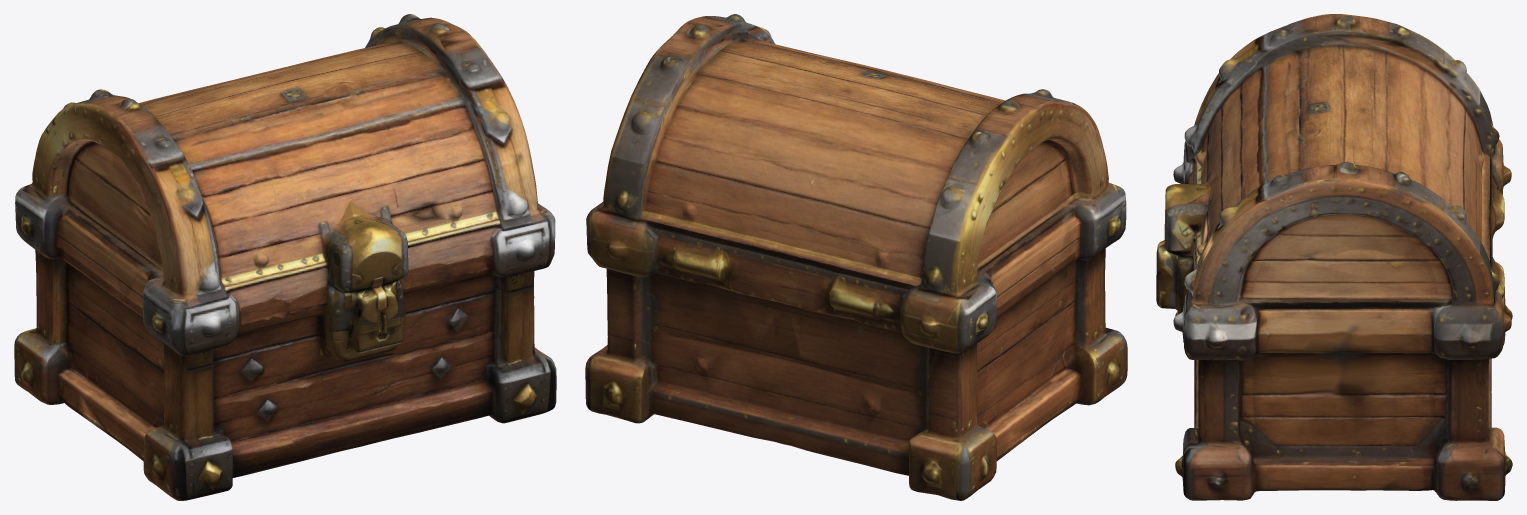
The model's file is treasurechest-Optimized.glb.
3 views of the same model, side by side, from view 1: azimuth 30°, elevation 25°; view 2: azimuth 150°, elevation 25°; view 3: azimuth 270°, elevation 25° (orthographic). The views are drawn at different scales.
Visible parts, largest first — view 1: Mesh_0; view 2: Mesh_0; view 3: Mesh_0.
Boxes of the visible parts, x1,y1,x2,y2 form: Mesh_0: (14, 14, 556, 500); Mesh_0: (585, 14, 1127, 500); Mesh_0: (1156, 14, 1512, 500).
Bounding box in the file's own units: 65761 × 53551 × 53302.
1 material, 1 textured.
